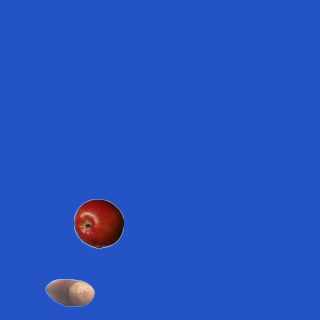Apple Braeburn: (73, 198, 123, 248)
Hazelnut: (44, 267, 94, 317)
